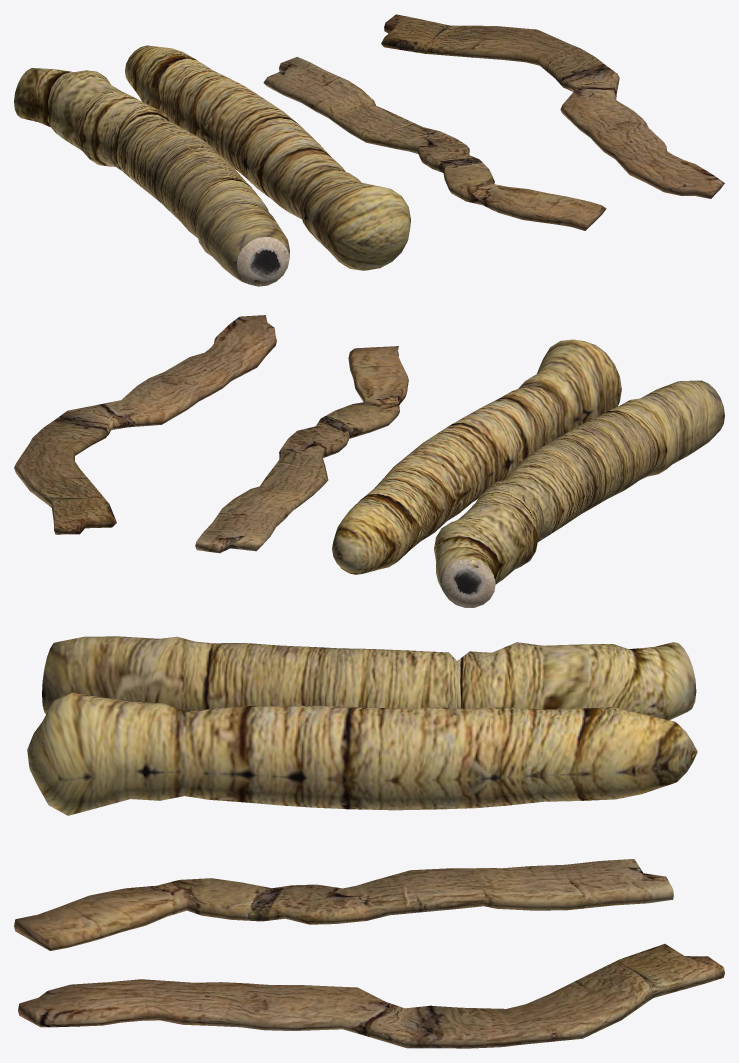
The model's file is bajitian.FBX.
3 views of the same model, one above another, from view 1: azimuth 30°, elevation 25°; view 2: azimuth 150°, elevation 25°; view 3: azimuth 270°, elevation 25° (orthographic). The views are drawn at different scales.
Parts seen in each view (by area): view 1: Cylinder002, Cylinder001, Box003, Box002; view 2: Cylinder001, Cylinder002, Box003, Box002; view 3: Cylinder002, Cylinder001, Box003, Box002.
Boxes of the visible parts, x1,y1,x2,y2 form: Cylinder002: [125, 45, 410, 270]; Cylinder001: [14, 68, 289, 286]; Box003: [381, 14, 724, 198]; Box002: [263, 57, 606, 230]; Cylinder001: [434, 380, 724, 607]; Cylinder002: [332, 339, 621, 574]; Box003: [14, 315, 276, 534]; Box002: [195, 346, 408, 553]; Cylinder002: [27, 692, 697, 815]; Cylinder001: [42, 636, 696, 720]; Box003: [18, 944, 724, 1048]; Box002: [14, 859, 673, 950].
Bounding box in the file's own units: 570 × 86.73 × 505.
1 material, 1 textured.
